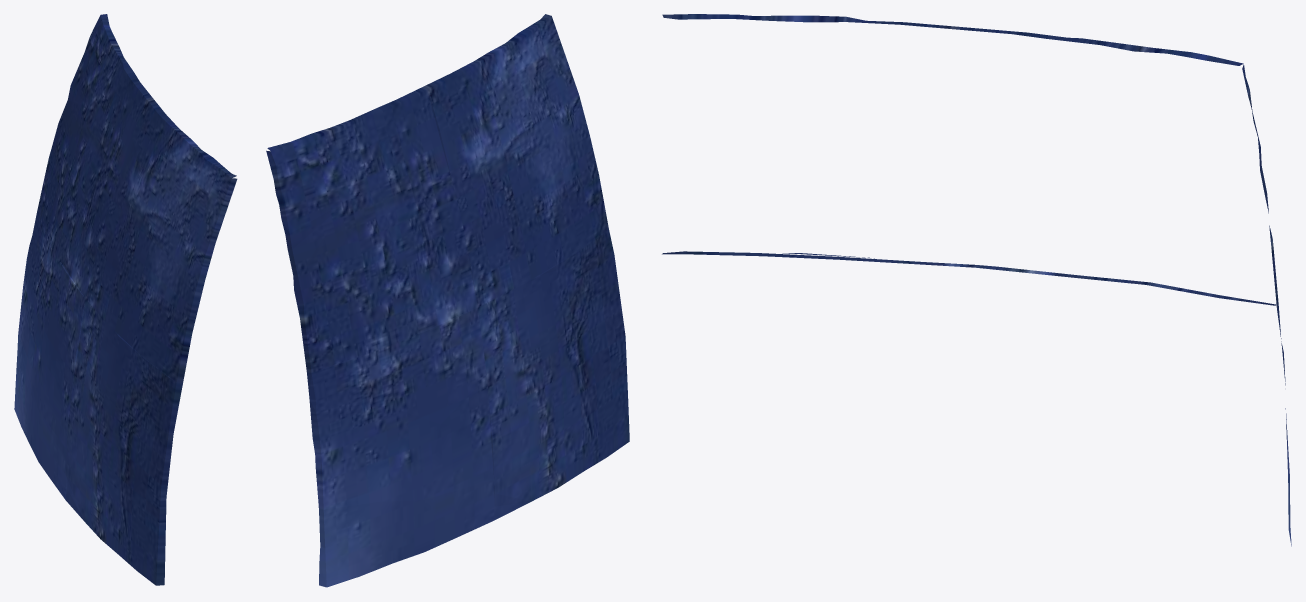
3 views of the same model, side by side, from view 1: azimuth 30°, elevation 25°; view 2: azimuth 150°, elevation 25°; view 3: azimuth 270°, elevation 25° (orthographic). The views are drawn at different scales.
Size of the model in its own units: 975760 by 2458708 by 2469408.
1 material, 1 textured.
